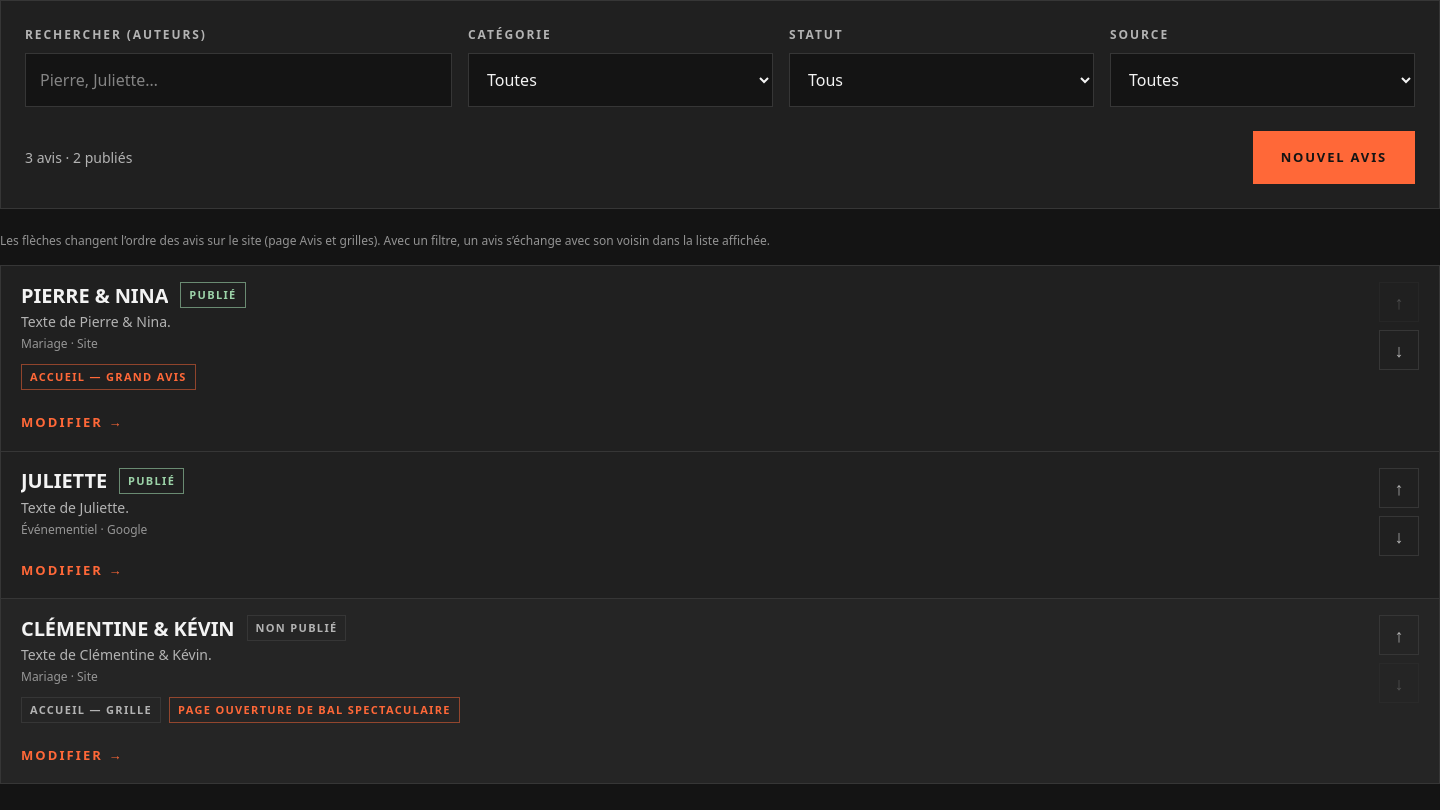
Scenario: GestionAvis — modale d’édition › s’enregistre seule après la frappe, sans griser les champs
Click the button with aria-label "Modifier l’avis de Juliette" at (72, 570), box left=21, top=550, right=124, bottom=591
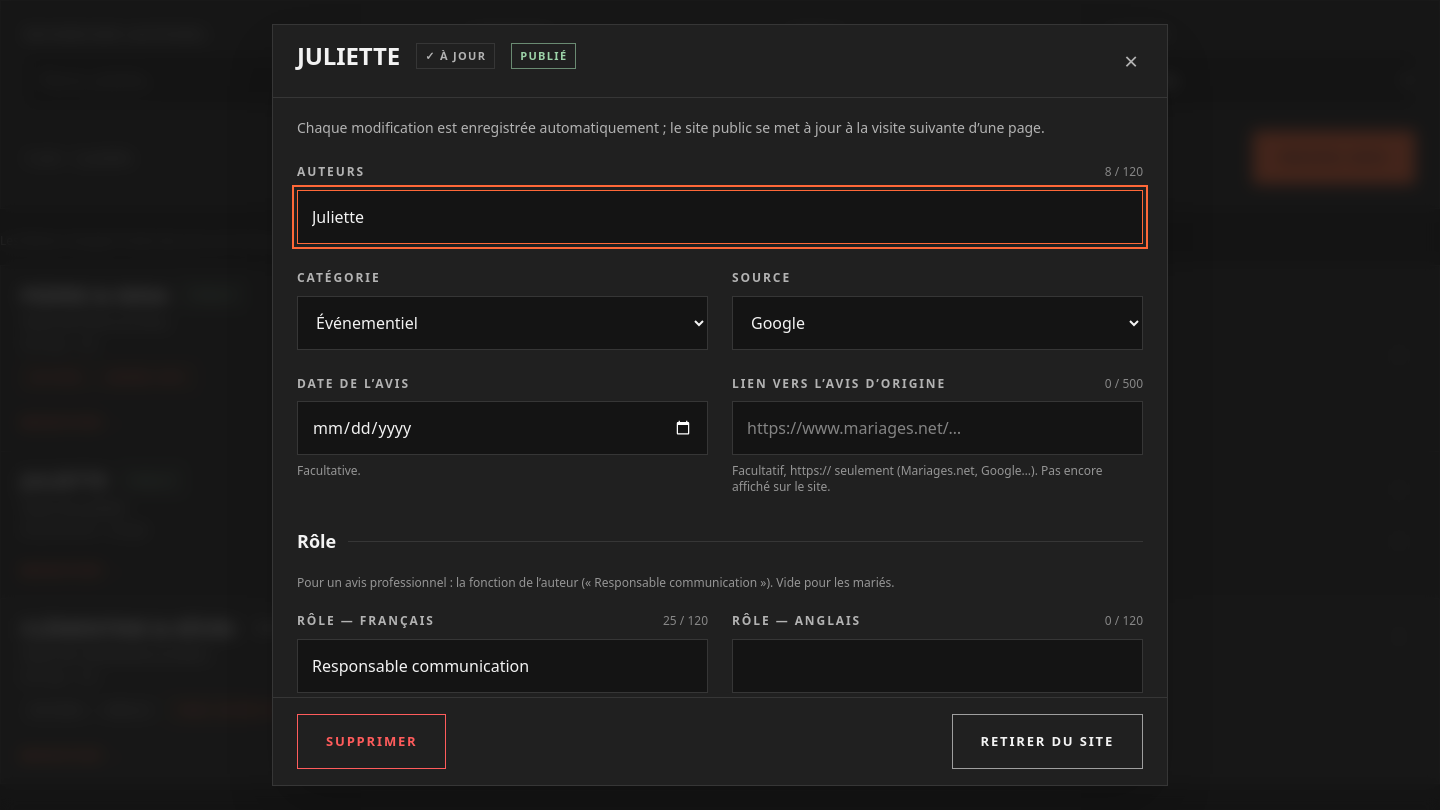
Now the text "le site public se met à jour à la visite suivante" is shown, box left=297, top=118, right=1045, bottom=137
Type "Head of communications" into the field labelled "Rôle — anglais" at (938, 666), box left=732, top=639, right=1143, bottom=693
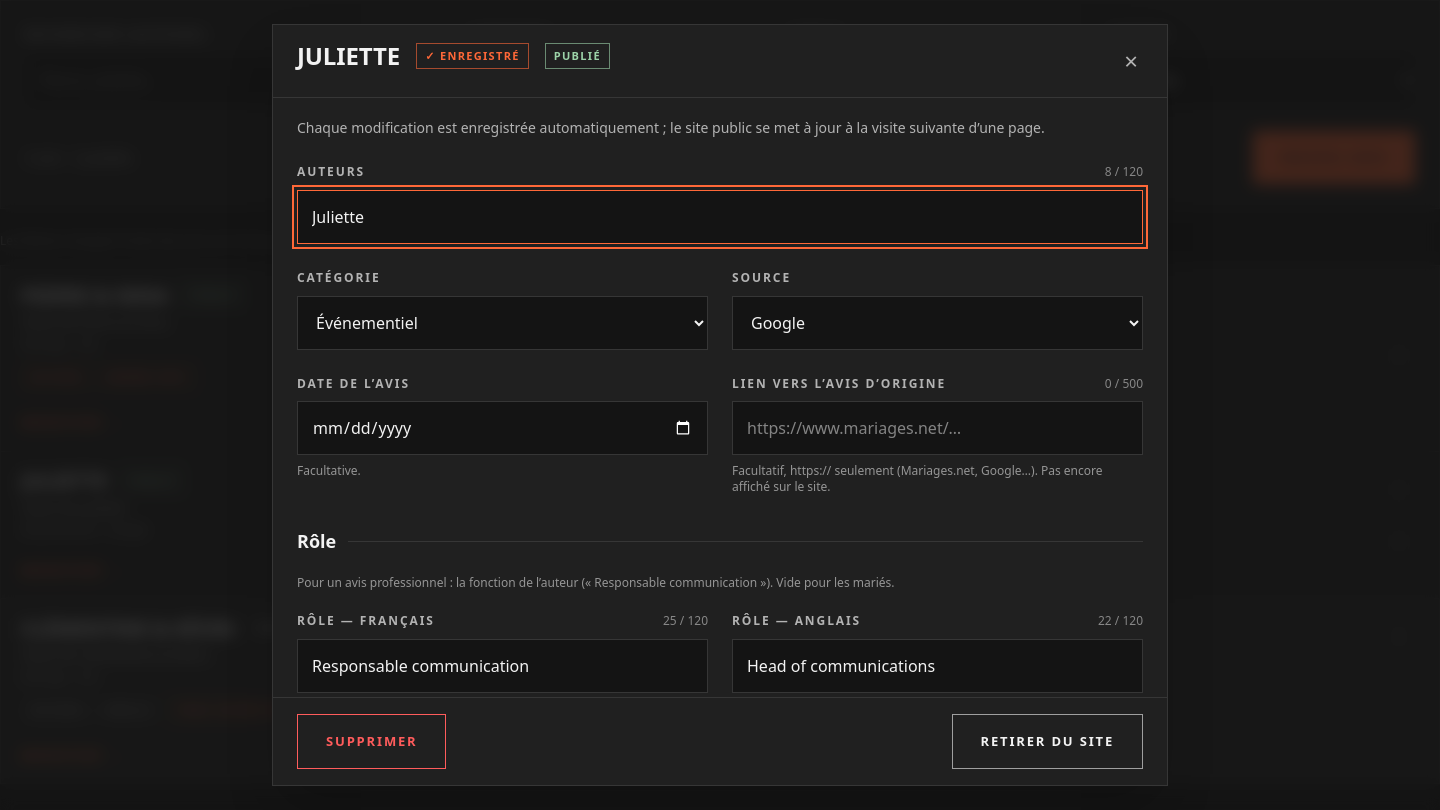
Now the field labelled "Rôle — anglais" is enabled, box left=732, top=639, right=1143, bottom=693
Now the text "✓ Enregistré" is shown, box left=416, top=43, right=529, bottom=69
